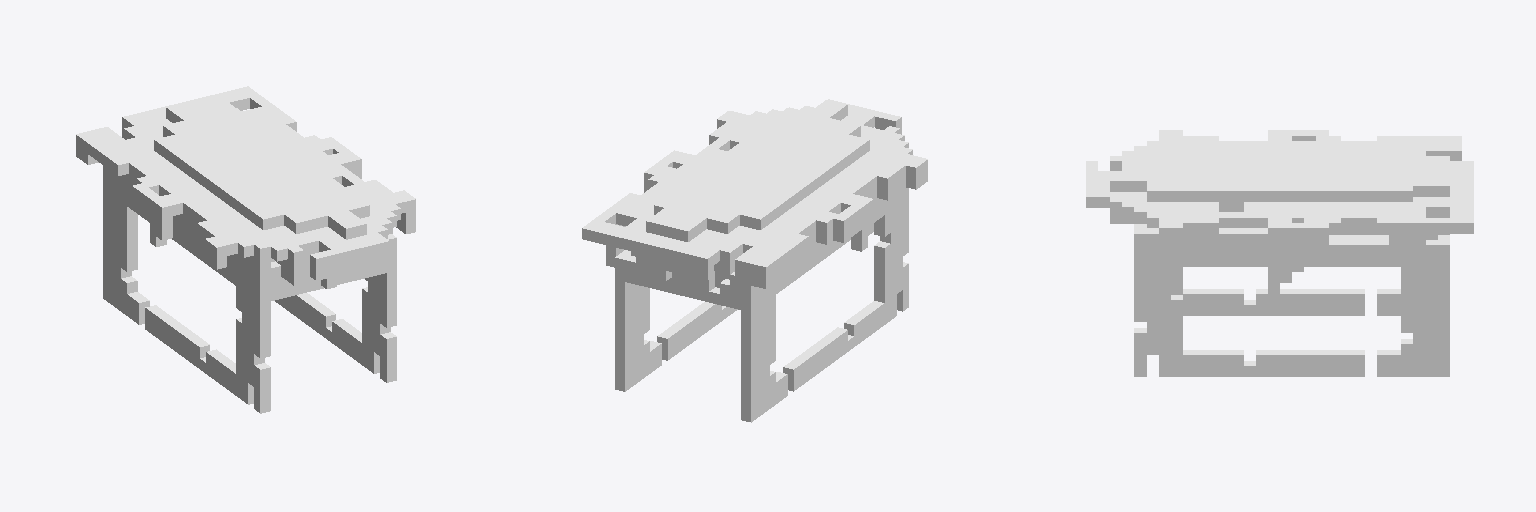
File: plant5.obj
3 views of the same model, side by side, from view 1: azimuth 30°, elevation 25°; view 2: azimuth 150°, elevation 25°; view 3: azimuth 270°, elevation 25° (orthographic).
Size of the model in its own units: 19 by 16 by 32.